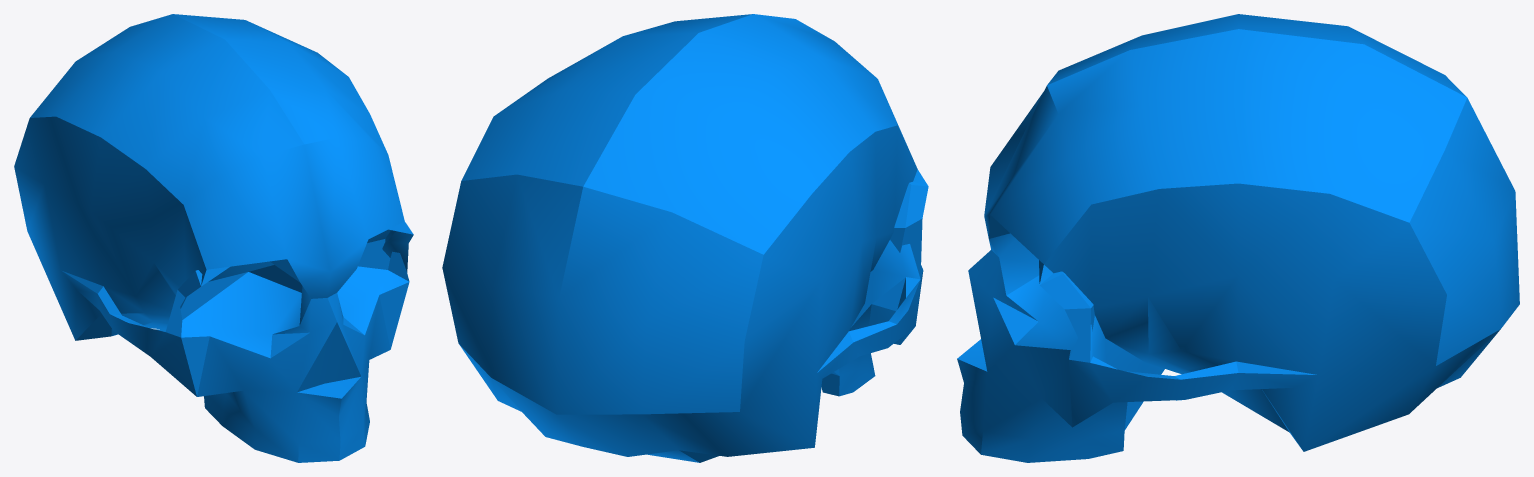
File: skull.fbx
3 views of the same model, side by side, from view 1: azimuth 30°, elevation 25°; view 2: azimuth 150°, elevation 25°; view 3: azimuth 270°, elevation 25° (orthographic). The views are drawn at different scales.
Visible parts, largest first — view 1: Cube; view 2: Cube; view 3: Cube.
Part boxes in pixels (x1,y1,x2,y2): Cube: (14, 14, 413, 462); Cube: (442, 14, 928, 462); Cube: (957, 14, 1519, 462).
Bounding box in the file's own units: 136 × 156 × 195.
